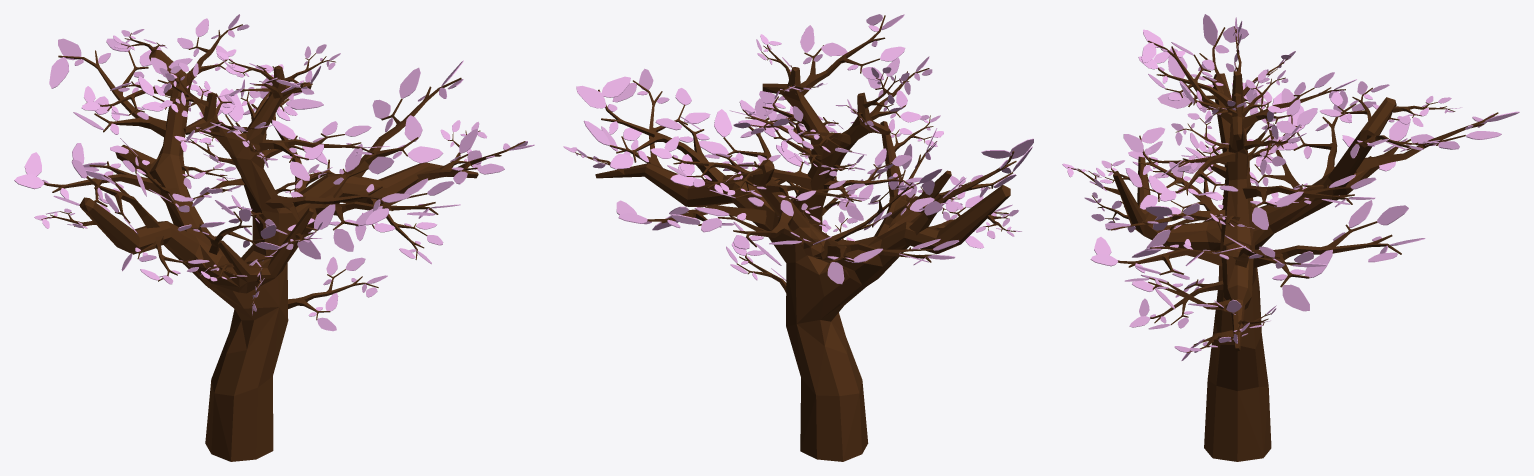
File: Tree_000.fbx
3 renders of one model, left to right at view 1: azimuth 30°, elevation 25°; view 2: azimuth 150°, elevation 25°; view 3: azimuth 270°, elevation 25°, orthographic.
Visible parts, largest first — view 1: Tree; view 2: Tree; view 3: Tree.
Part boxes in pixels (box(x1,y1,x2,y2)): Tree: box(14, 14, 534, 461); Tree: box(563, 14, 1033, 461); Tree: box(1062, 14, 1519, 461).
Bounding box in the file's own units: 1642 × 1420 × 1446.
